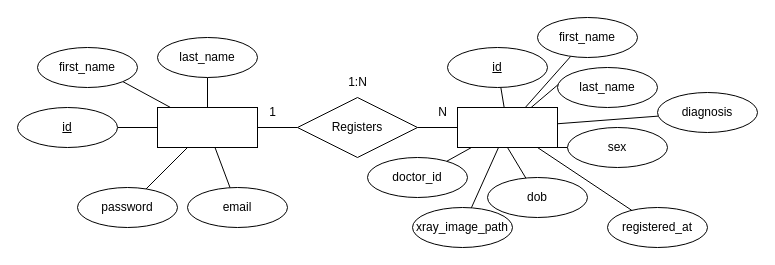
Some shapes in this 775 by 265 pixel diagram are drawn without their labels. The box of each missing label's shape, as (x1, y1, x2, y2) in pixels:
Doctor: (156, 106, 258, 148)
Patient: (456, 106, 558, 148)
